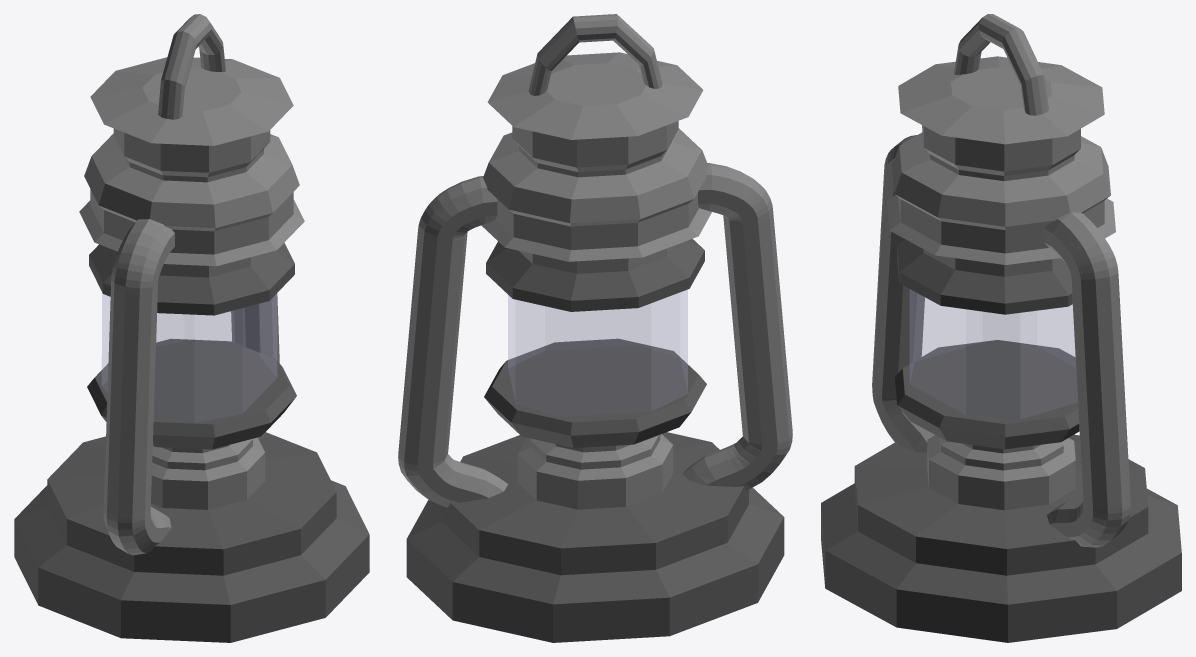
The model's file is Lantern 1.FBX.
3 views of the same model, side by side, from view 1: azimuth 30°, elevation 25°; view 2: azimuth 150°, elevation 25°; view 3: azimuth 270°, elevation 25° (orthographic).
Parts seen in each view (by area): view 1: polySurface2, polySurface1; view 2: polySurface2, polySurface1; view 3: polySurface2, polySurface1.
Part boxes in pixels (box(x1,y1,x2,y2)): polySurface2: box(14, 14, 369, 642); polySurface1: box(102, 293, 276, 422); polySurface2: box(398, 14, 792, 642); polySurface1: box(508, 289, 687, 416); polySurface2: box(821, 14, 1181, 642); polySurface1: box(910, 289, 1077, 418).
Size of the model in its own units: 360 by 594 by 356.
